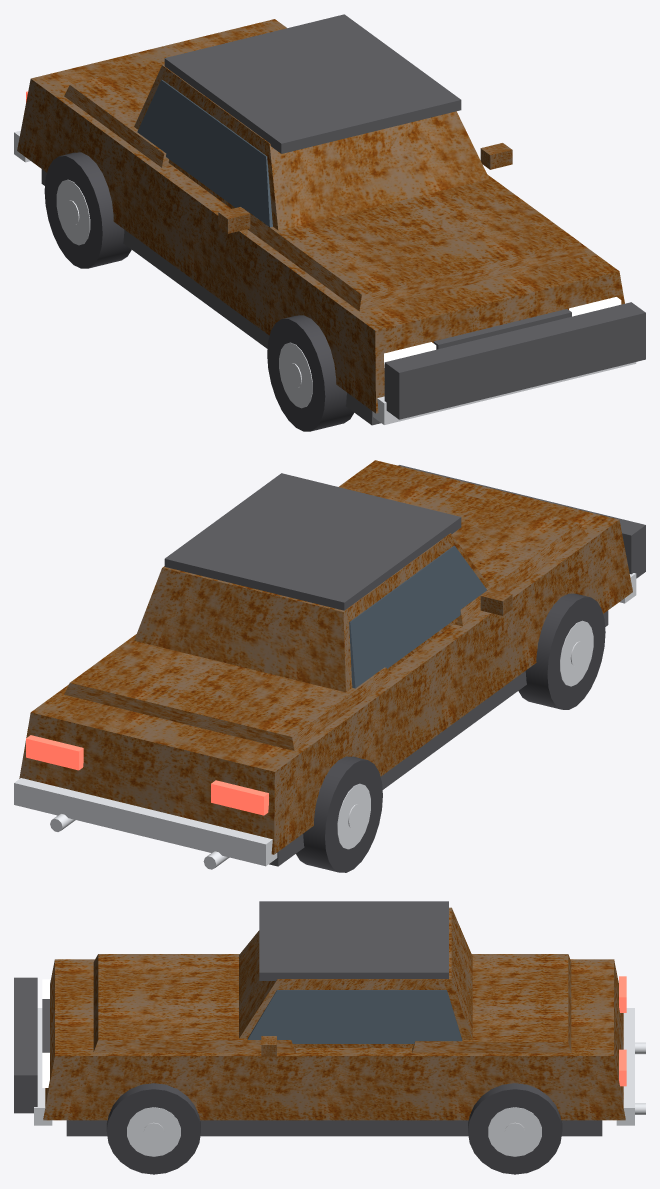
File: car_bloodring.glb
3 renders of one model, top to bottom at view 1: azimuth 30°, elevation 25°; view 2: azimuth 150°, elevation 25°; view 3: azimuth 270°, elevation 25°, orthographic. The views are drawn at different scales.
Parts seen in each view (by area): view 1: VehicleRoot; view 2: VehicleRoot; view 3: VehicleRoot.
Boxes of the visible parts, x1,y1,x2,y2 form: VehicleRoot: (14, 14, 645, 431); VehicleRoot: (14, 460, 645, 872); VehicleRoot: (14, 901, 645, 1174).
Bounding box in the file's own units: 2.04 × 1.53 × 4.83.
7 materials, 1 textured.
